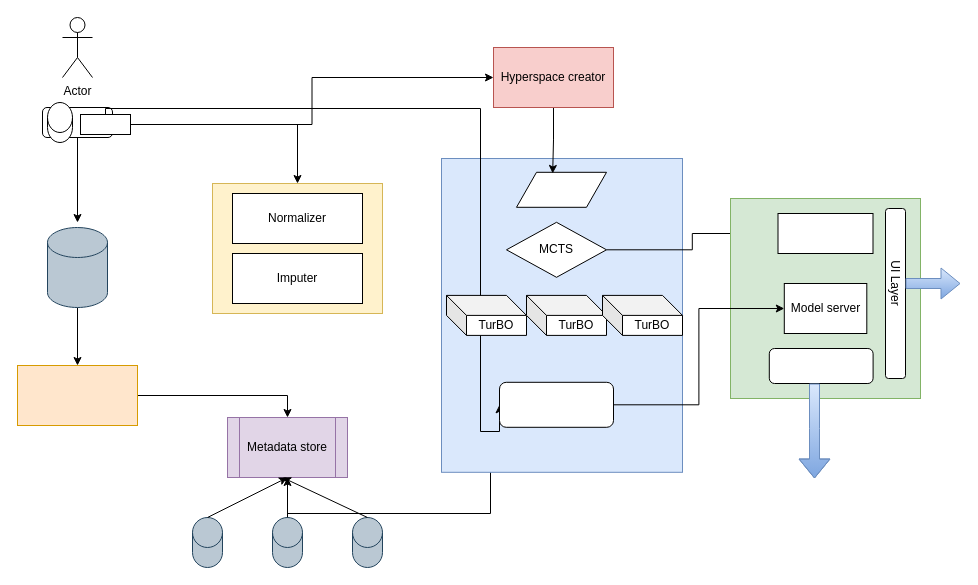
This 978x585 diagram has some shape labels left out. The centre of each missing label's shape, as x and y in pixels:
Feature extractor: pixel 77 395
Models: pixel 556 404
REST API: pixel 820 366
Start from best known previous value: pixel 561 189
Tracking Server: pixel 825 233
